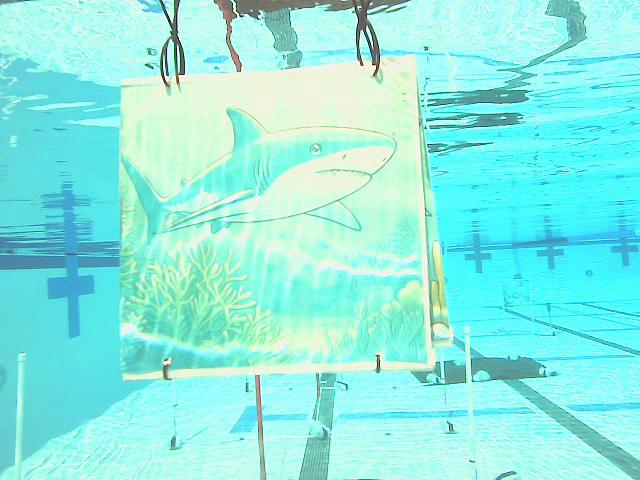shark: (121, 55, 432, 376)
